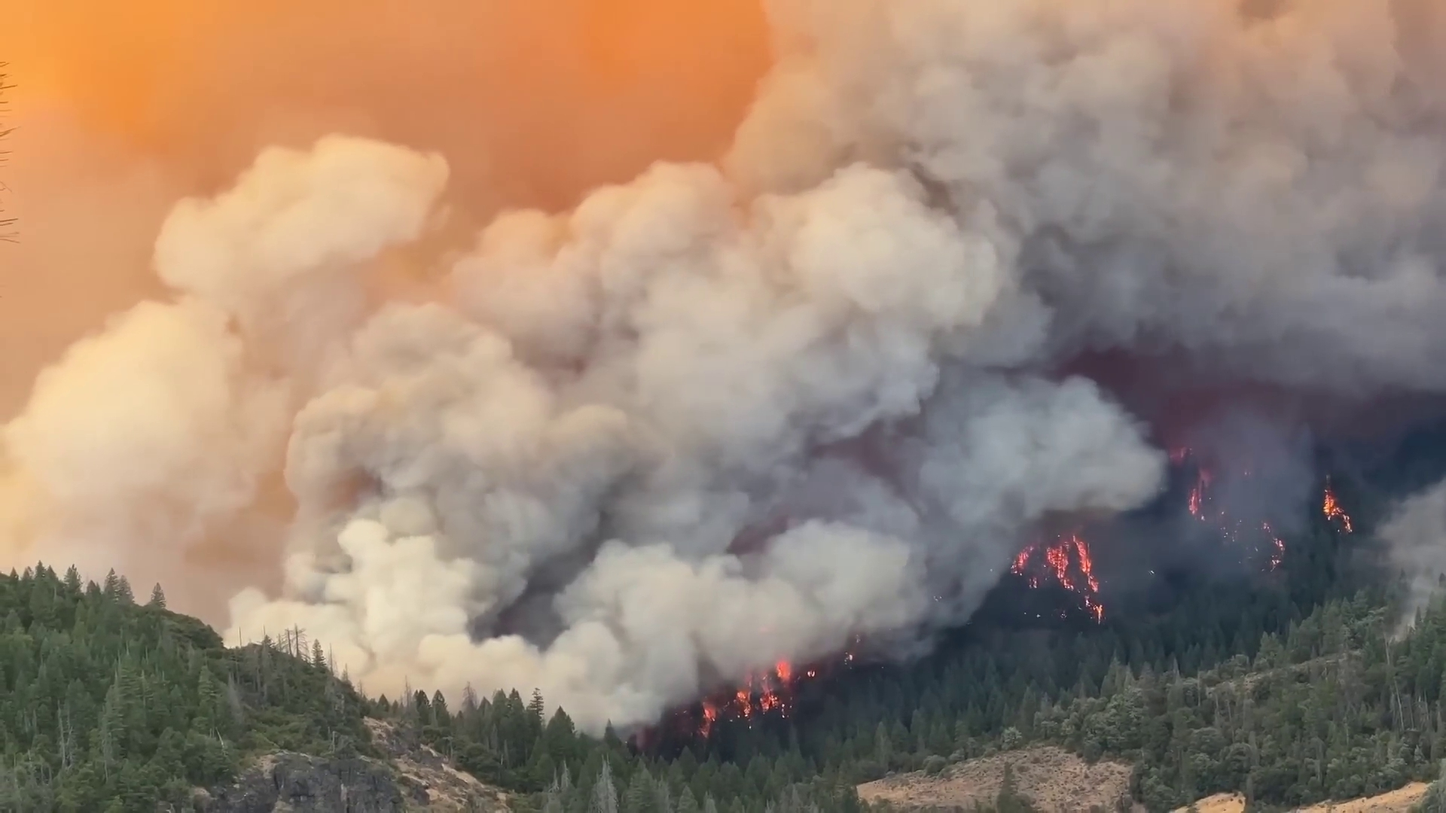forest_fire: (1187, 466, 1286, 568), (694, 660, 819, 738), (1008, 531, 1105, 622), (1011, 531, 1103, 621), (1316, 477, 1353, 531), (1321, 477, 1352, 532), (1171, 448, 1192, 467)
